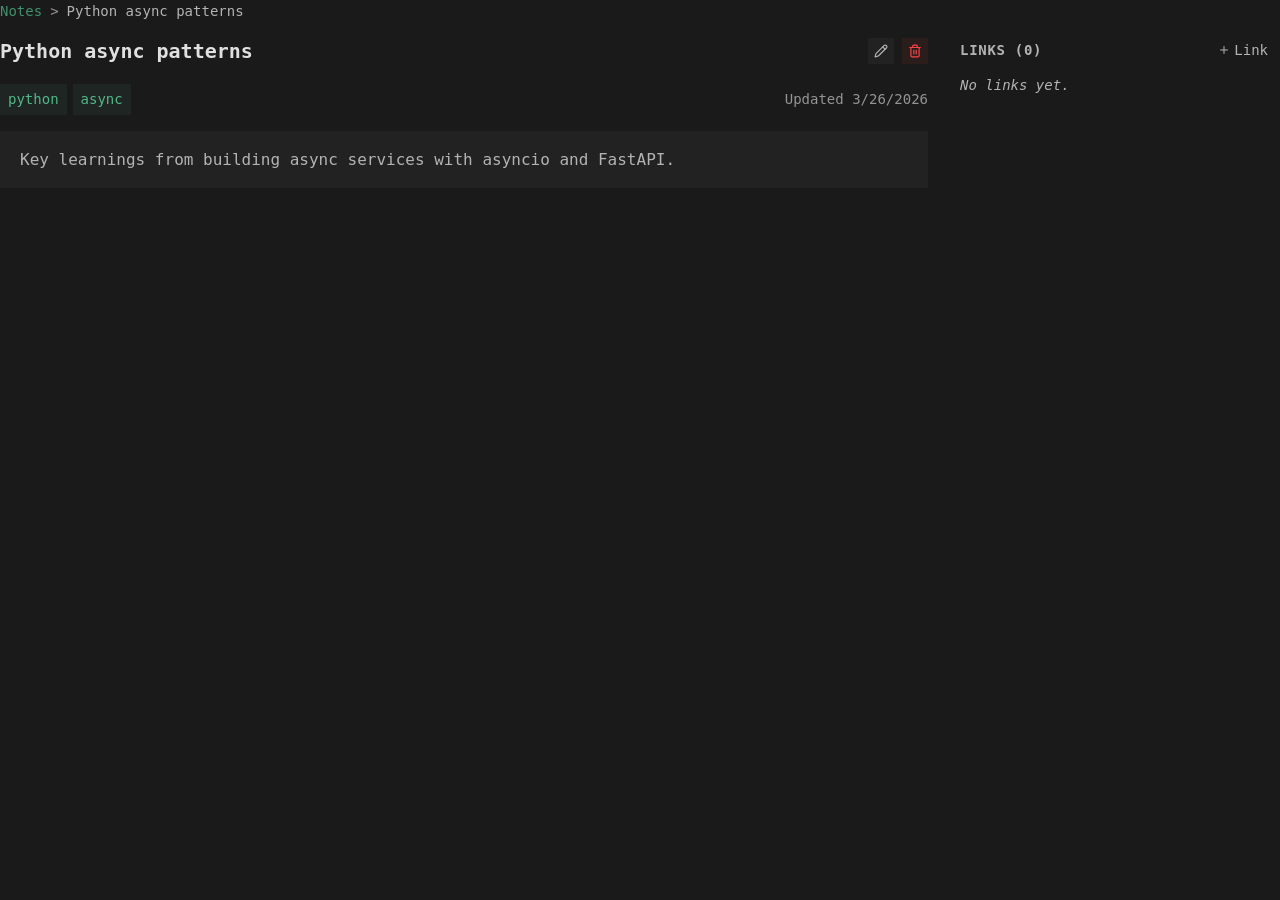
Test: NoteDetailView › delete button with confirmation navigates to /notes
The width and height of the screenshot is (1280, 900).
expect the text "Python async patterns" is shown: met, box [67,0,244,22]
Click the button named "Delete".
click(915, 51)  # box [902,38,928,64]
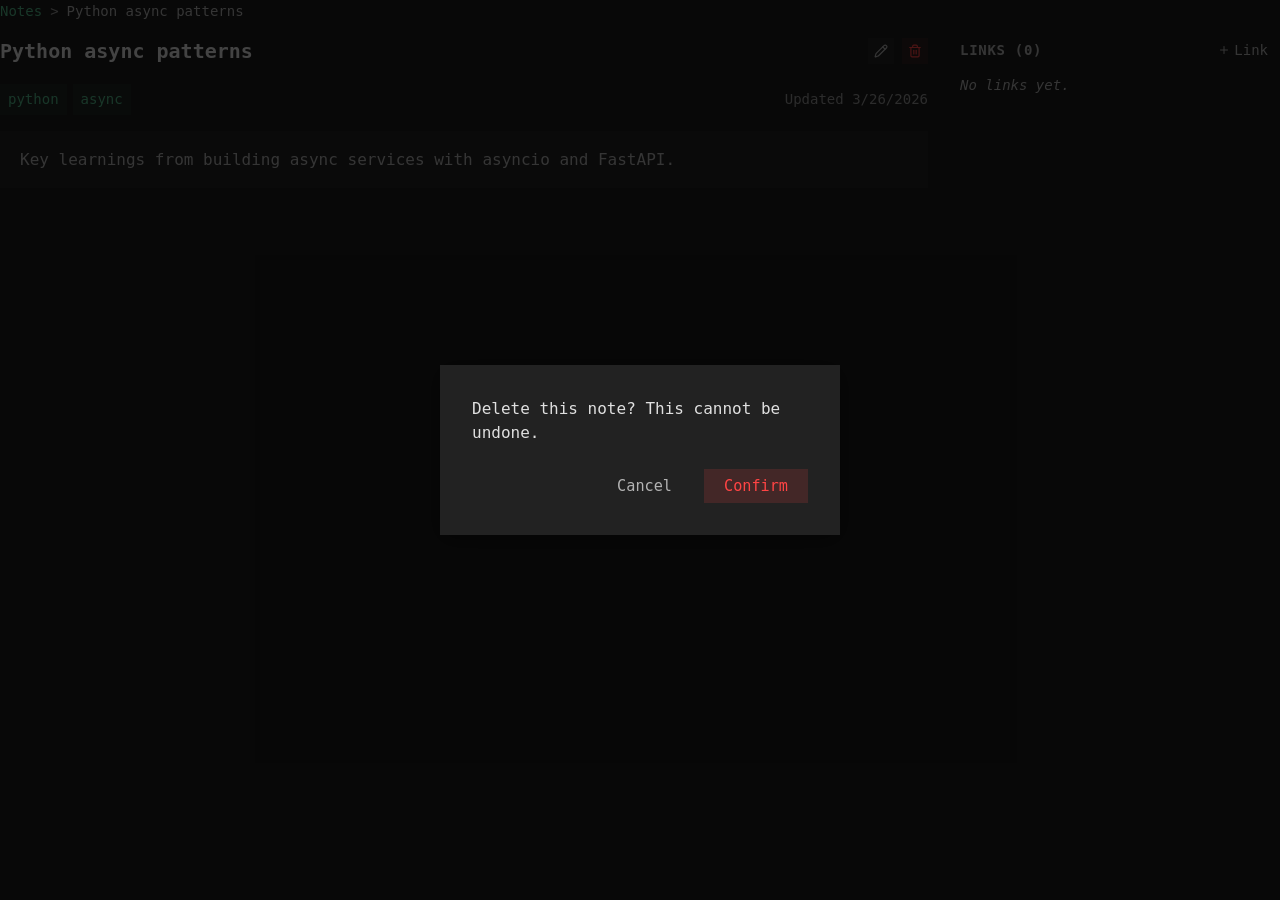
expect the text "Delete this note? This cannot be undone." is shown: met, box [472,397,808,445]
Click the button "Confirm".
click(756, 486)  # box [704,469,808,503]
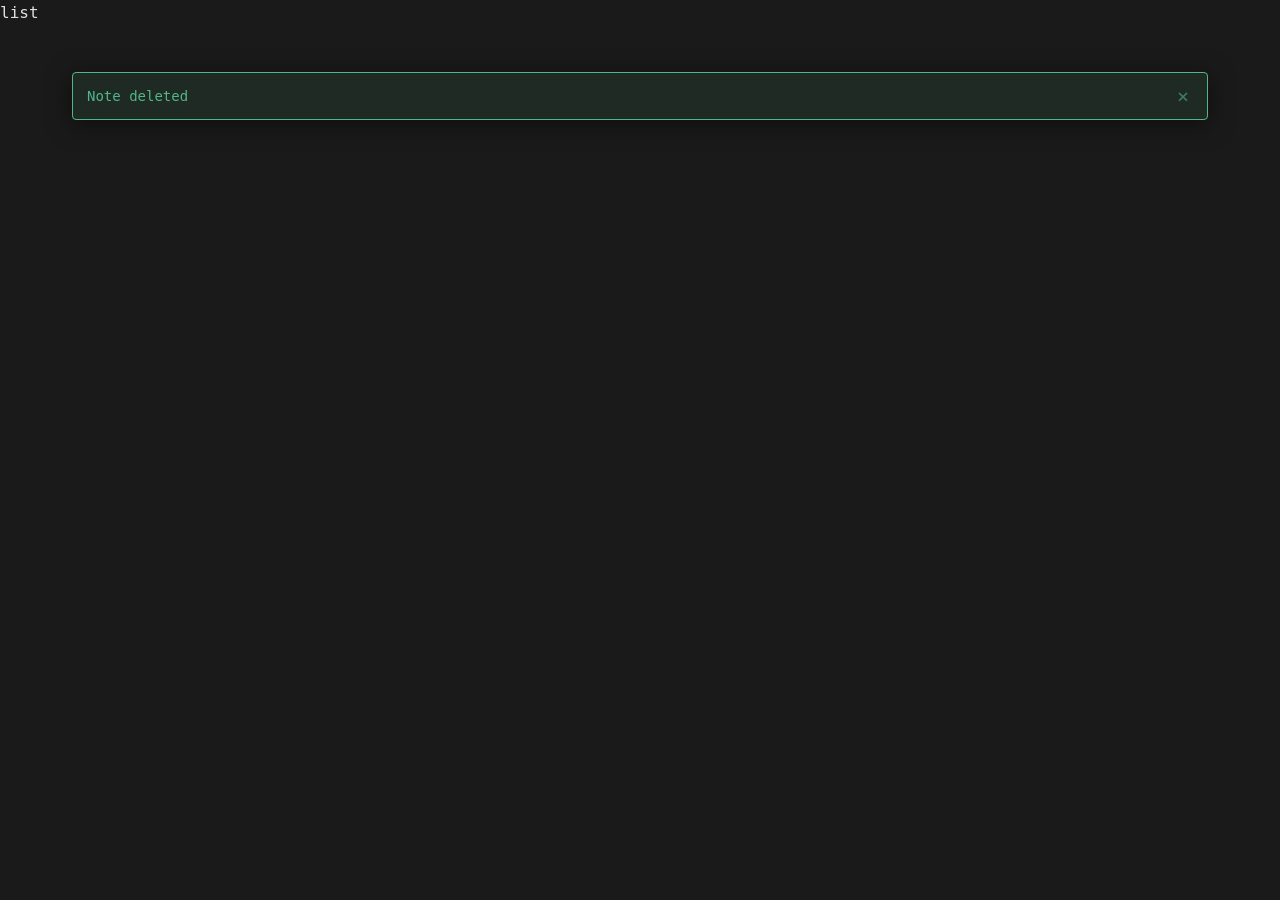
expect the text "list" is shown: met, box [0,3,38,22]
